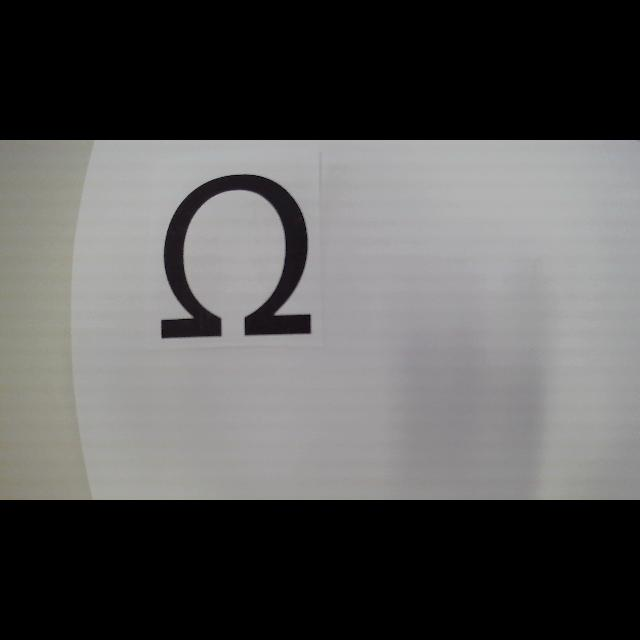OMEGA: (160, 174, 312, 338)
